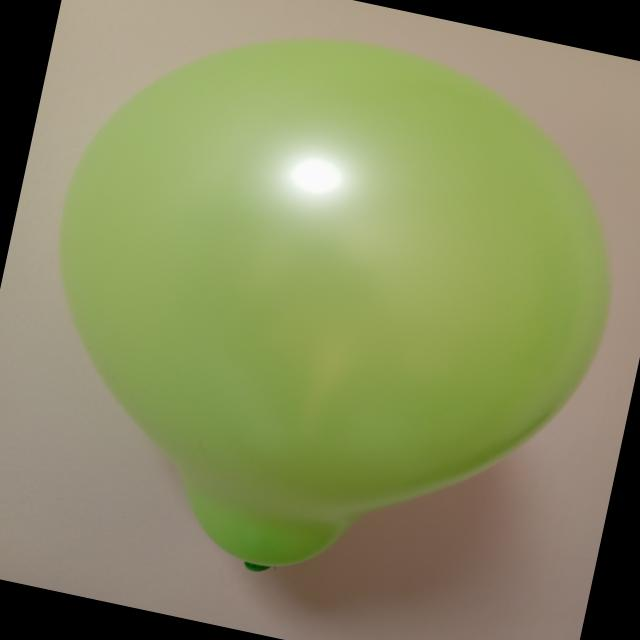balloon: (60, 39, 609, 568)
